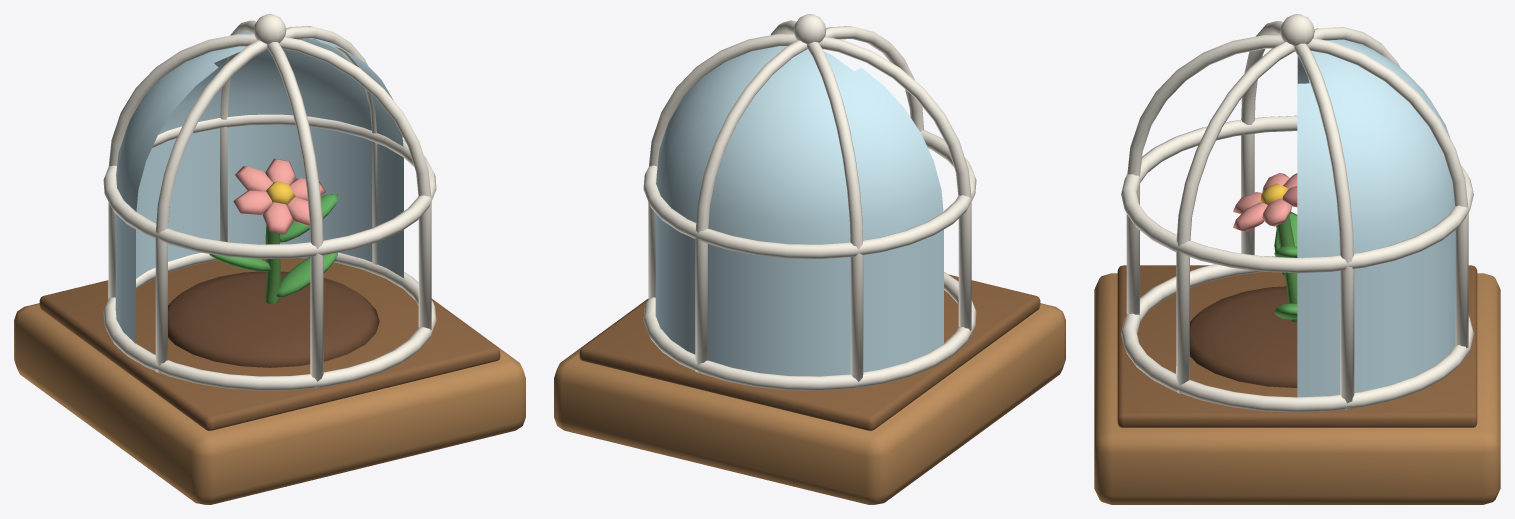
Rendered from terrarium.glb.
3 views of the same model, side by side, from view 1: azimuth 30°, elevation 25°; view 2: azimuth 150°, elevation 25°; view 3: azimuth 270°, elevation 25° (orthographic). The views are drawn at different scales.
Visible parts, largest first — view 1: dome, base, plant; view 2: dome, base; view 3: dome, base, plant.
Part boxes in pixels (x1,y1,x2,y2): dome: (103, 14, 436, 390); base: (14, 258, 525, 504); plant: (168, 158, 379, 367); dome: (643, 14, 976, 390); base: (554, 274, 1065, 504); dome: (1121, 14, 1473, 412); base: (1094, 265, 1500, 504); plant: (1190, 173, 1297, 387).
Bounding box in the file's own units: 0.7 × 0.78 × 0.7.
